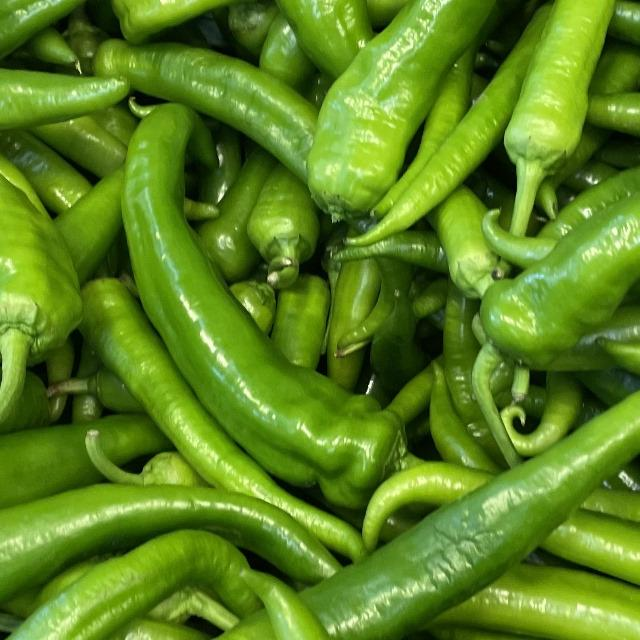chili_pepper: (492, 0, 640, 250)
